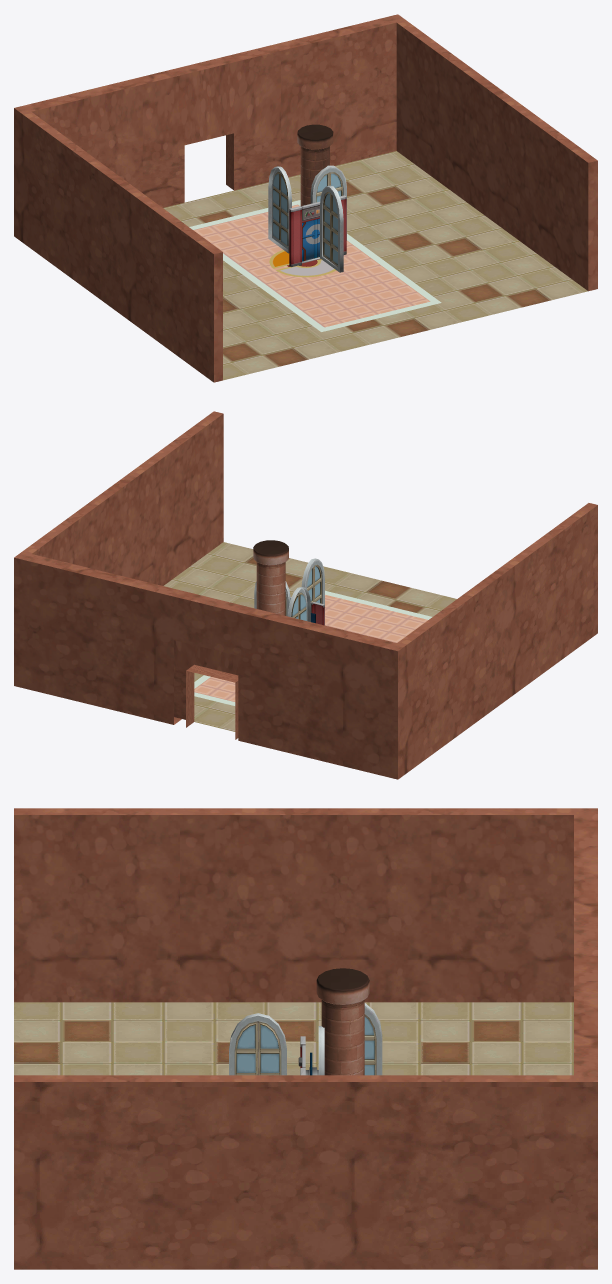
The picture shows the model from 3 angles, top to bottom: view 1: azimuth 30°, elevation 25°; view 2: azimuth 150°, elevation 25°; view 3: azimuth 270°, elevation 25°; orthographic projection. The views are drawn at different scales.
Parts seen in each view (by area): view 1: SM_C_0435_Wall_02, SM_C_0435_Wall_01, SM_C_0435_Floor_01, SM_C_0435_Floor_02, SM_RO_149_Window_01_0 (×3), SM_C_0435_Floor_03, SM_D_043_Piller_01_0, SM_C_001_DoorElv_02_0, SM_RO_149_Window_01_1 (×2), SM_B_023_Mark_01_1, SM_D_047_DoorInner_01; view 2: SM_C_0435_Wall_01, SM_C_0435_Wall_02, SM_C_0435_Floor_01, SM_C_0435_Floor_02, SM_D_043_Piller_01_0, SM_C_0435_Floor_03, SM_RO_149_Window_01_0; view 3: SM_C_0435_Wall_01, SM_C_0435_Wall_02, SM_C_0435_Floor_01, SM_D_043_Piller_01_0, SM_RO_149_Window_01_0 (×2), SM_RO_149_Window_01_1.
Boxes of the visible parts, <box> form: SM_C_0435_Wall_02: <box>31,22,588,290</box>; SM_C_0435_Wall_01: <box>14,14,597,382</box>; SM_C_0435_Floor_01: <box>163,151,587,380</box>; SM_C_0435_Floor_02: <box>193,204,430,327</box>; SM_RO_149_Window_01_0 (×3): <box>268,165,346,272</box>; SM_C_0435_Floor_03: <box>189,200,441,331</box>; SM_D_043_Piller_01_0: <box>297,124,333,205</box>; SM_C_001_DoorElv_02_0: <box>289,195,346,266</box>; SM_RO_149_Window_01_1 (×2): <box>273,173,337,264</box>; SM_B_023_Mark_01_1: <box>271,250,334,276</box>; SM_D_047_DoorInner_01: <box>302,219,315,261</box>; SM_C_0435_Wall_01: <box>14,411,597,779</box>; SM_C_0435_Wall_02: <box>32,414,238,739</box>; SM_C_0435_Floor_01: <box>164,542,456,731</box>; SM_C_0435_Floor_02: <box>194,594,427,701</box>; SM_D_043_Piller_01_0: <box>253,540,288,615</box>; SM_C_0435_Floor_03: <box>194,590,432,705</box>; SM_RO_149_Window_01_0: <box>301,558,324,625</box>; SM_C_0435_Wall_01: <box>14,808,597,1269</box>; SM_C_0435_Wall_02: <box>14,815,573,1002</box>; SM_C_0435_Floor_01: <box>14,1002,573,1075</box>; SM_D_043_Piller_01_0: <box>316,968,369,1075</box>; SM_RO_149_Window_01_0 (×2): <box>229,1003,382,1075</box>; SM_RO_149_Window_01_1: <box>236,1025,279,1072</box>.
Bounding box in the file's own units: 17.3 × 5.77 × 15.6.
Materials: 11 (11 with a texture image).
